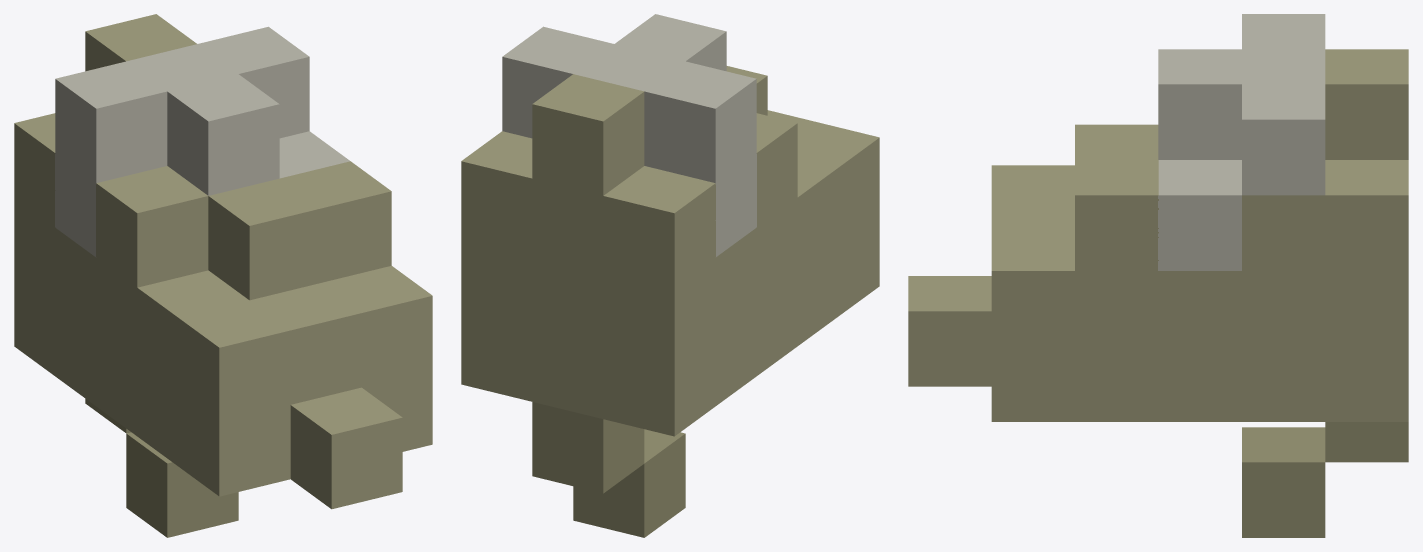
File: NB_TR_F_foot_r.fbx
The picture shows the model from 3 angles, left to right: view 1: azimuth 30°, elevation 25°; view 2: azimuth 150°, elevation 25°; view 3: azimuth 270°, elevation 25°; orthographic projection.
Visible parts, largest first — view 1: foot_r; view 2: foot_r; view 3: foot_r.
Boxes of the visible parts, x1=… form: foot_r: x1=14, y1=14, x2=432, y2=537; foot_r: x1=461, y1=14, x2=879, y2=537; foot_r: x1=908, y1=14, x2=1408, y2=537.
Size of the model in its own units: 3 by 6 by 6.
1 material, 1 textured.
